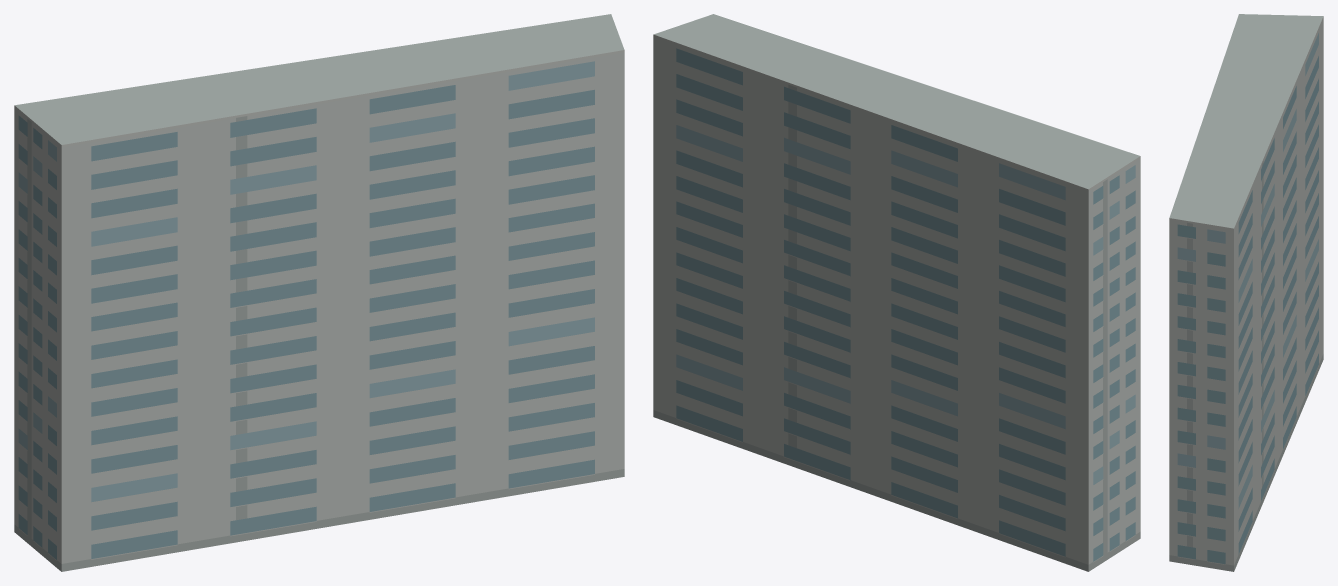
The model's file is residential-53554f2a-0824-4209-a793-09ad9854a8fb.glb.
3 renders of one model, left to right at view 1: azimuth 30°, elevation 25°; view 2: azimuth 150°, elevation 25°; view 3: azimuth 270°, elevation 25°, orthographic. The views are drawn at different scales.
Parts seen in each view (by area): view 1: residential-53554f2a-0824-4209-a793-09ad9854a8fb.tmp; view 2: residential-53554f2a-0824-4209-a793-09ad9854a8fb.tmp; view 3: residential-53554f2a-0824-4209-a793-09ad9854a8fb.tmp.
Part boxes in pixels (<box>): residential-53554f2a-0824-4209-a793-09ad9854a8fb.tmp: <box>14,14,624,571</box>; residential-53554f2a-0824-4209-a793-09ad9854a8fb.tmp: <box>653,14,1140,571</box>; residential-53554f2a-0824-4209-a793-09ad9854a8fb.tmp: <box>1169,14,1323,571</box>.
Size of the model in its own units: 61.31 by 45.75 by 18.64.
